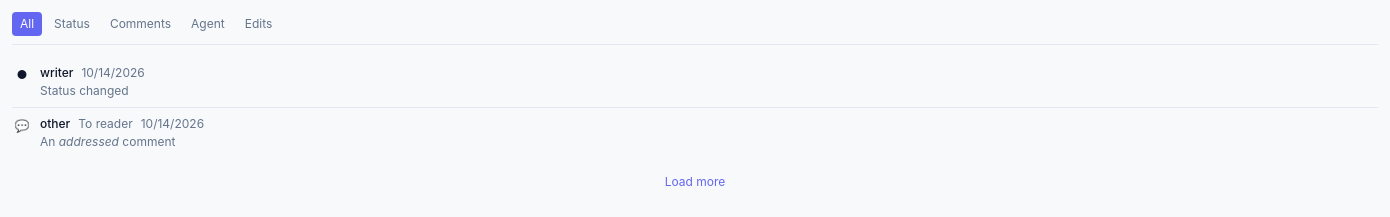
Scenario: annotation activity › keeps the Comments filter and existing rows when another activity page arrives
Click the button with test id "filter-comment": (140, 24) 102,12 -> 179,36
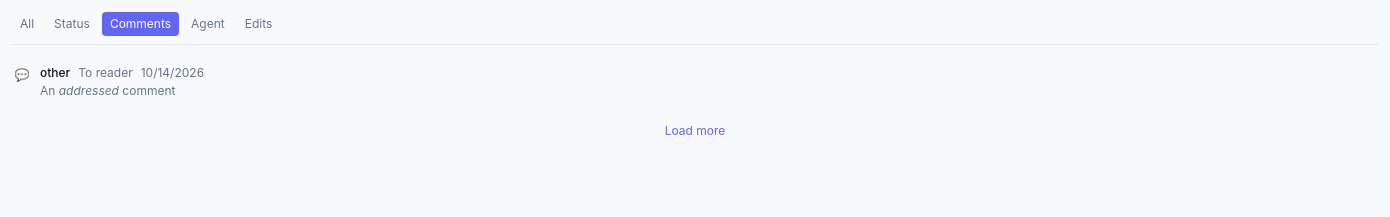
Result: the number of elements with test id "activity-entry" is 1 at 14,65 -> 204,98
Click the button with test id "load-more": (695, 131) 12,115 -> 1378,147
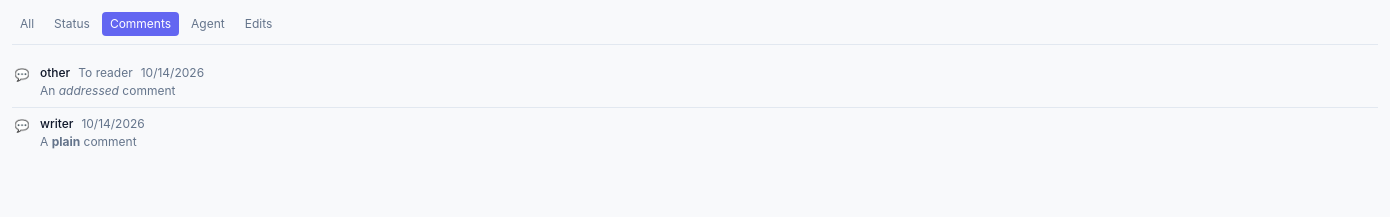
Expected: the text "reader" is shown, 96,65 -> 133,80
Result: the number of elements with test id "activity-entry" is 2 at 12,57 -> 1378,108; 14,116 -> 145,149
Result: the text "writer" is shown at 40,116 -> 73,132
Click the button with test id "filter-all": (27, 24) 12,12 -> 42,36
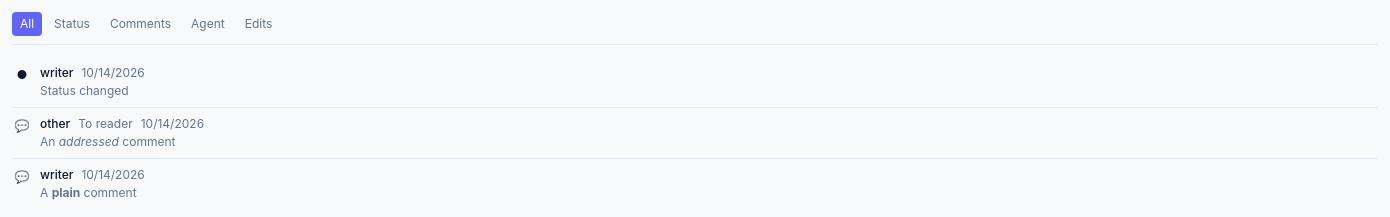
Result: the number of elements with test id "activity-entry" is 3 at 12,57 -> 1378,108; 12,108 -> 1378,159; 14,167 -> 145,200
